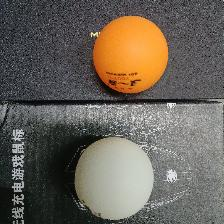WhiteBall: (74, 136, 153, 219)
YellowBall: (91, 15, 168, 93)
